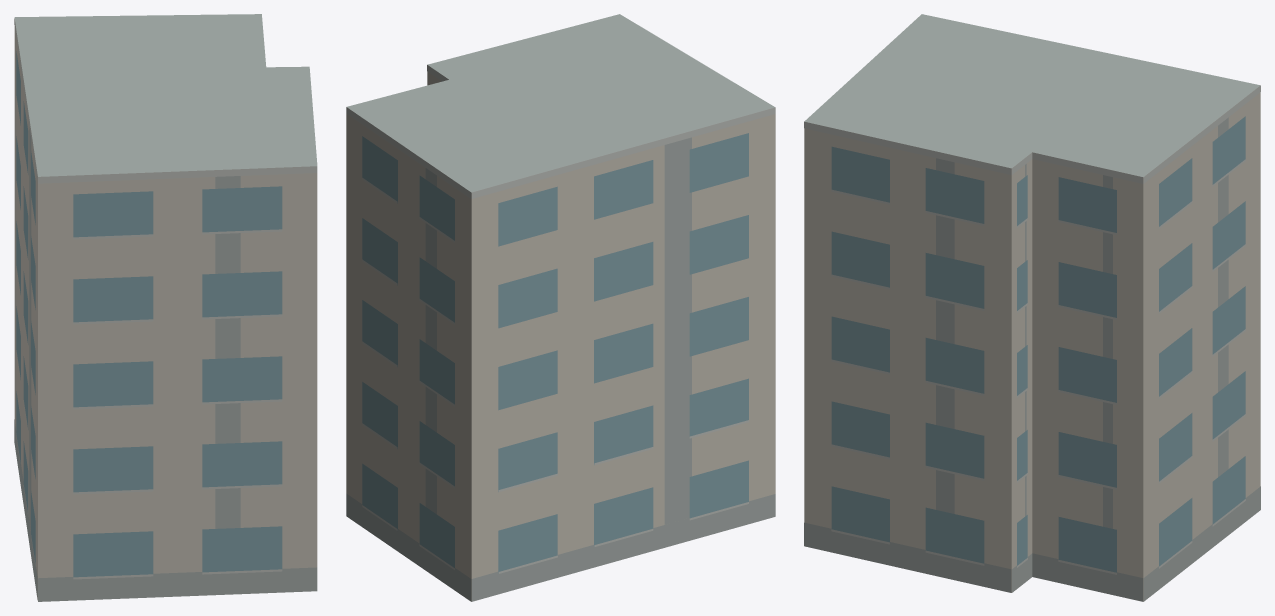
Rendered from residential-7b19d592-e545-4c84-a503-f3f009744e64.glb.
3 views of the same model, side by side, from view 1: azimuth 30°, elevation 25°; view 2: azimuth 150°, elevation 25°; view 3: azimuth 270°, elevation 25° (orthographic). The views are drawn at different scales.
Visible parts, largest first — view 1: residential-7b19d592-e545-4c84-a503-f3f009744e64.tmp; view 2: residential-7b19d592-e545-4c84-a503-f3f009744e64.tmp; view 3: residential-7b19d592-e545-4c84-a503-f3f009744e64.tmp.
Boxes of the visible parts, x1,y1,x2,y2 form: residential-7b19d592-e545-4c84-a503-f3f009744e64.tmp: (14, 14, 317, 601); residential-7b19d592-e545-4c84-a503-f3f009744e64.tmp: (346, 14, 775, 601); residential-7b19d592-e545-4c84-a503-f3f009744e64.tmp: (804, 14, 1260, 601).
Size of the model in its own units: 12.58 by 15.25 by 14.87.
